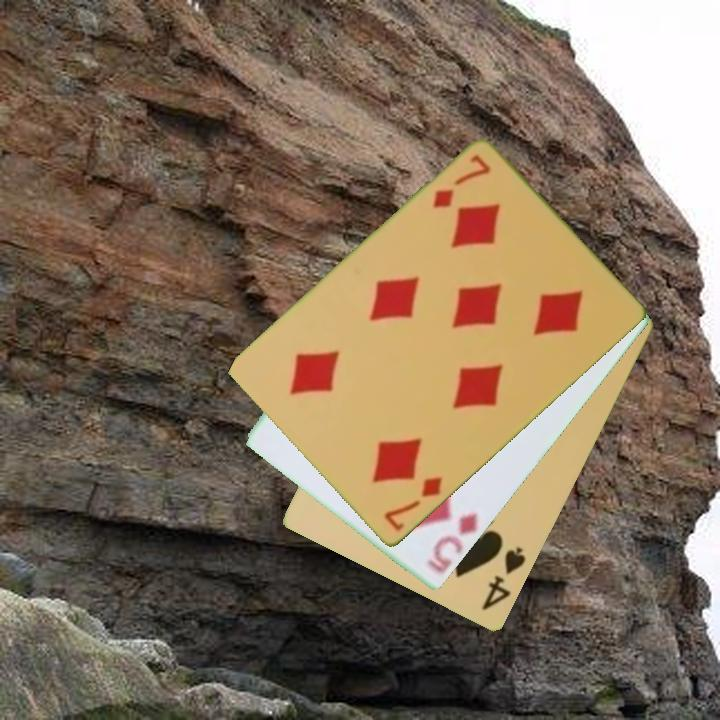4s: (478, 544, 529, 614)
5d: (424, 510, 481, 577)
7d: (380, 473, 446, 535), (428, 151, 494, 212)
